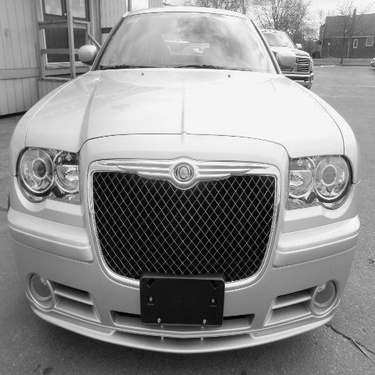car: (9, 5, 364, 363), (243, 21, 314, 94)
